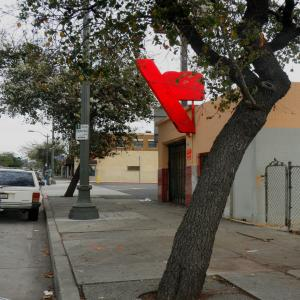Vehicle-registration-plate: (1, 195, 10, 201)
